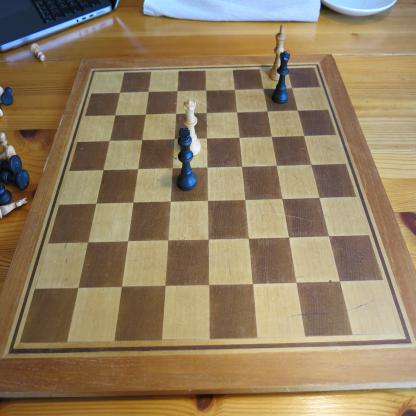black-king: (176, 127, 198, 192)
black-queen: (271, 50, 291, 104)
white-king: (268, 23, 286, 82)
white-knight: (1, 196, 28, 220)
white-pawn: (30, 42, 46, 62)
white-queen: (183, 99, 201, 156)
